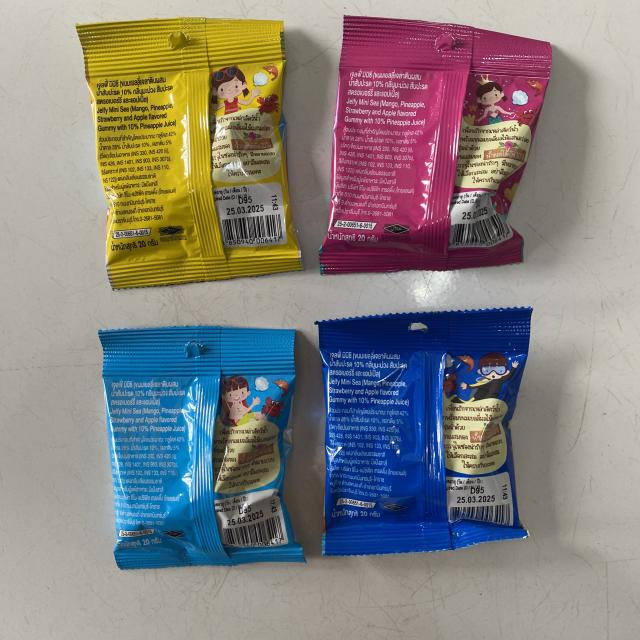plastik: (76, 18, 301, 289), (320, 16, 551, 274), (318, 308, 532, 555), (99, 326, 305, 569)
